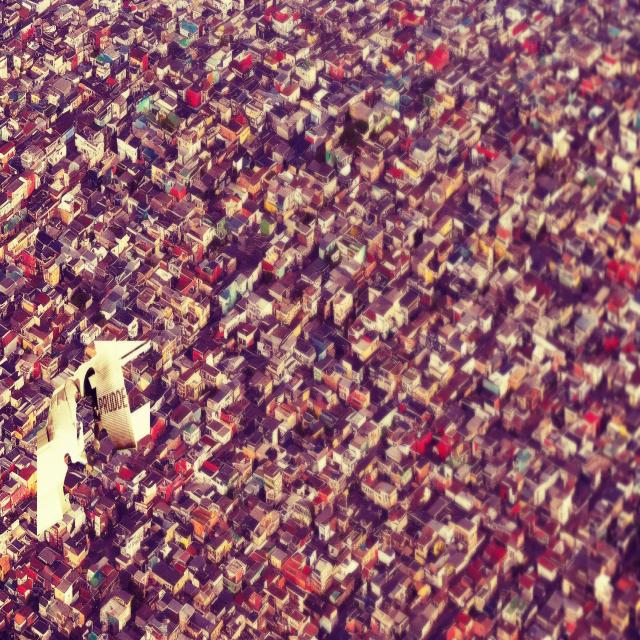airplane: (36, 342, 149, 536)
